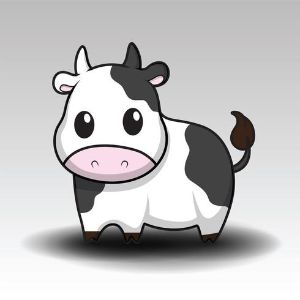cow: (48, 41, 258, 248)
